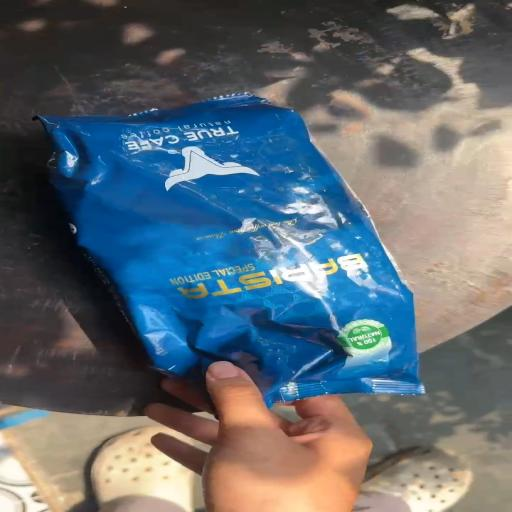cafe_hat: (36, 93, 422, 404)
